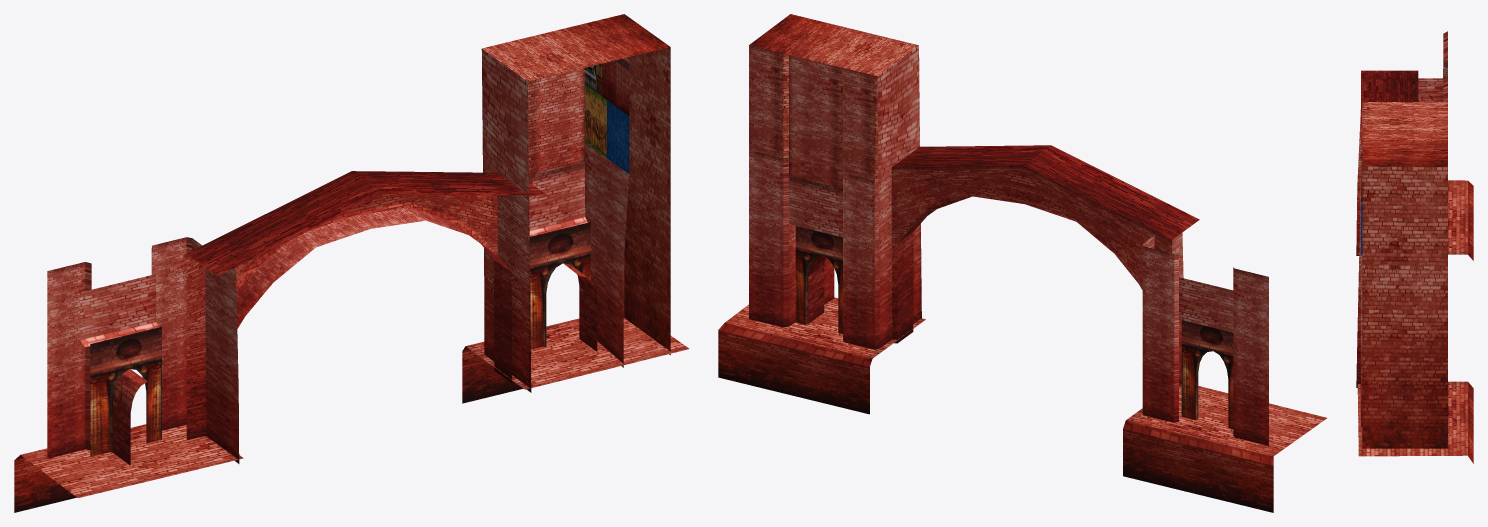
The model's file is ny_bridge.fbx.
3 views of the same model, side by side, from view 1: azimuth 30°, elevation 25°; view 2: azimuth 150°, elevation 25°; view 3: azimuth 270°, elevation 25° (orthographic). The views are drawn at different scales.
Visible parts, largest first — view 1: ny_bridge1; view 2: ny_bridge1; view 3: ny_bridge1.
Part boxes in pixels (<box>): ny_bridge1: <box>14,14,689,512</box>; ny_bridge1: <box>718,14,1326,512</box>; ny_bridge1: <box>1356,31,1473,463</box>.
Bounding box in the file's own units: 4064 × 2295 × 723.
